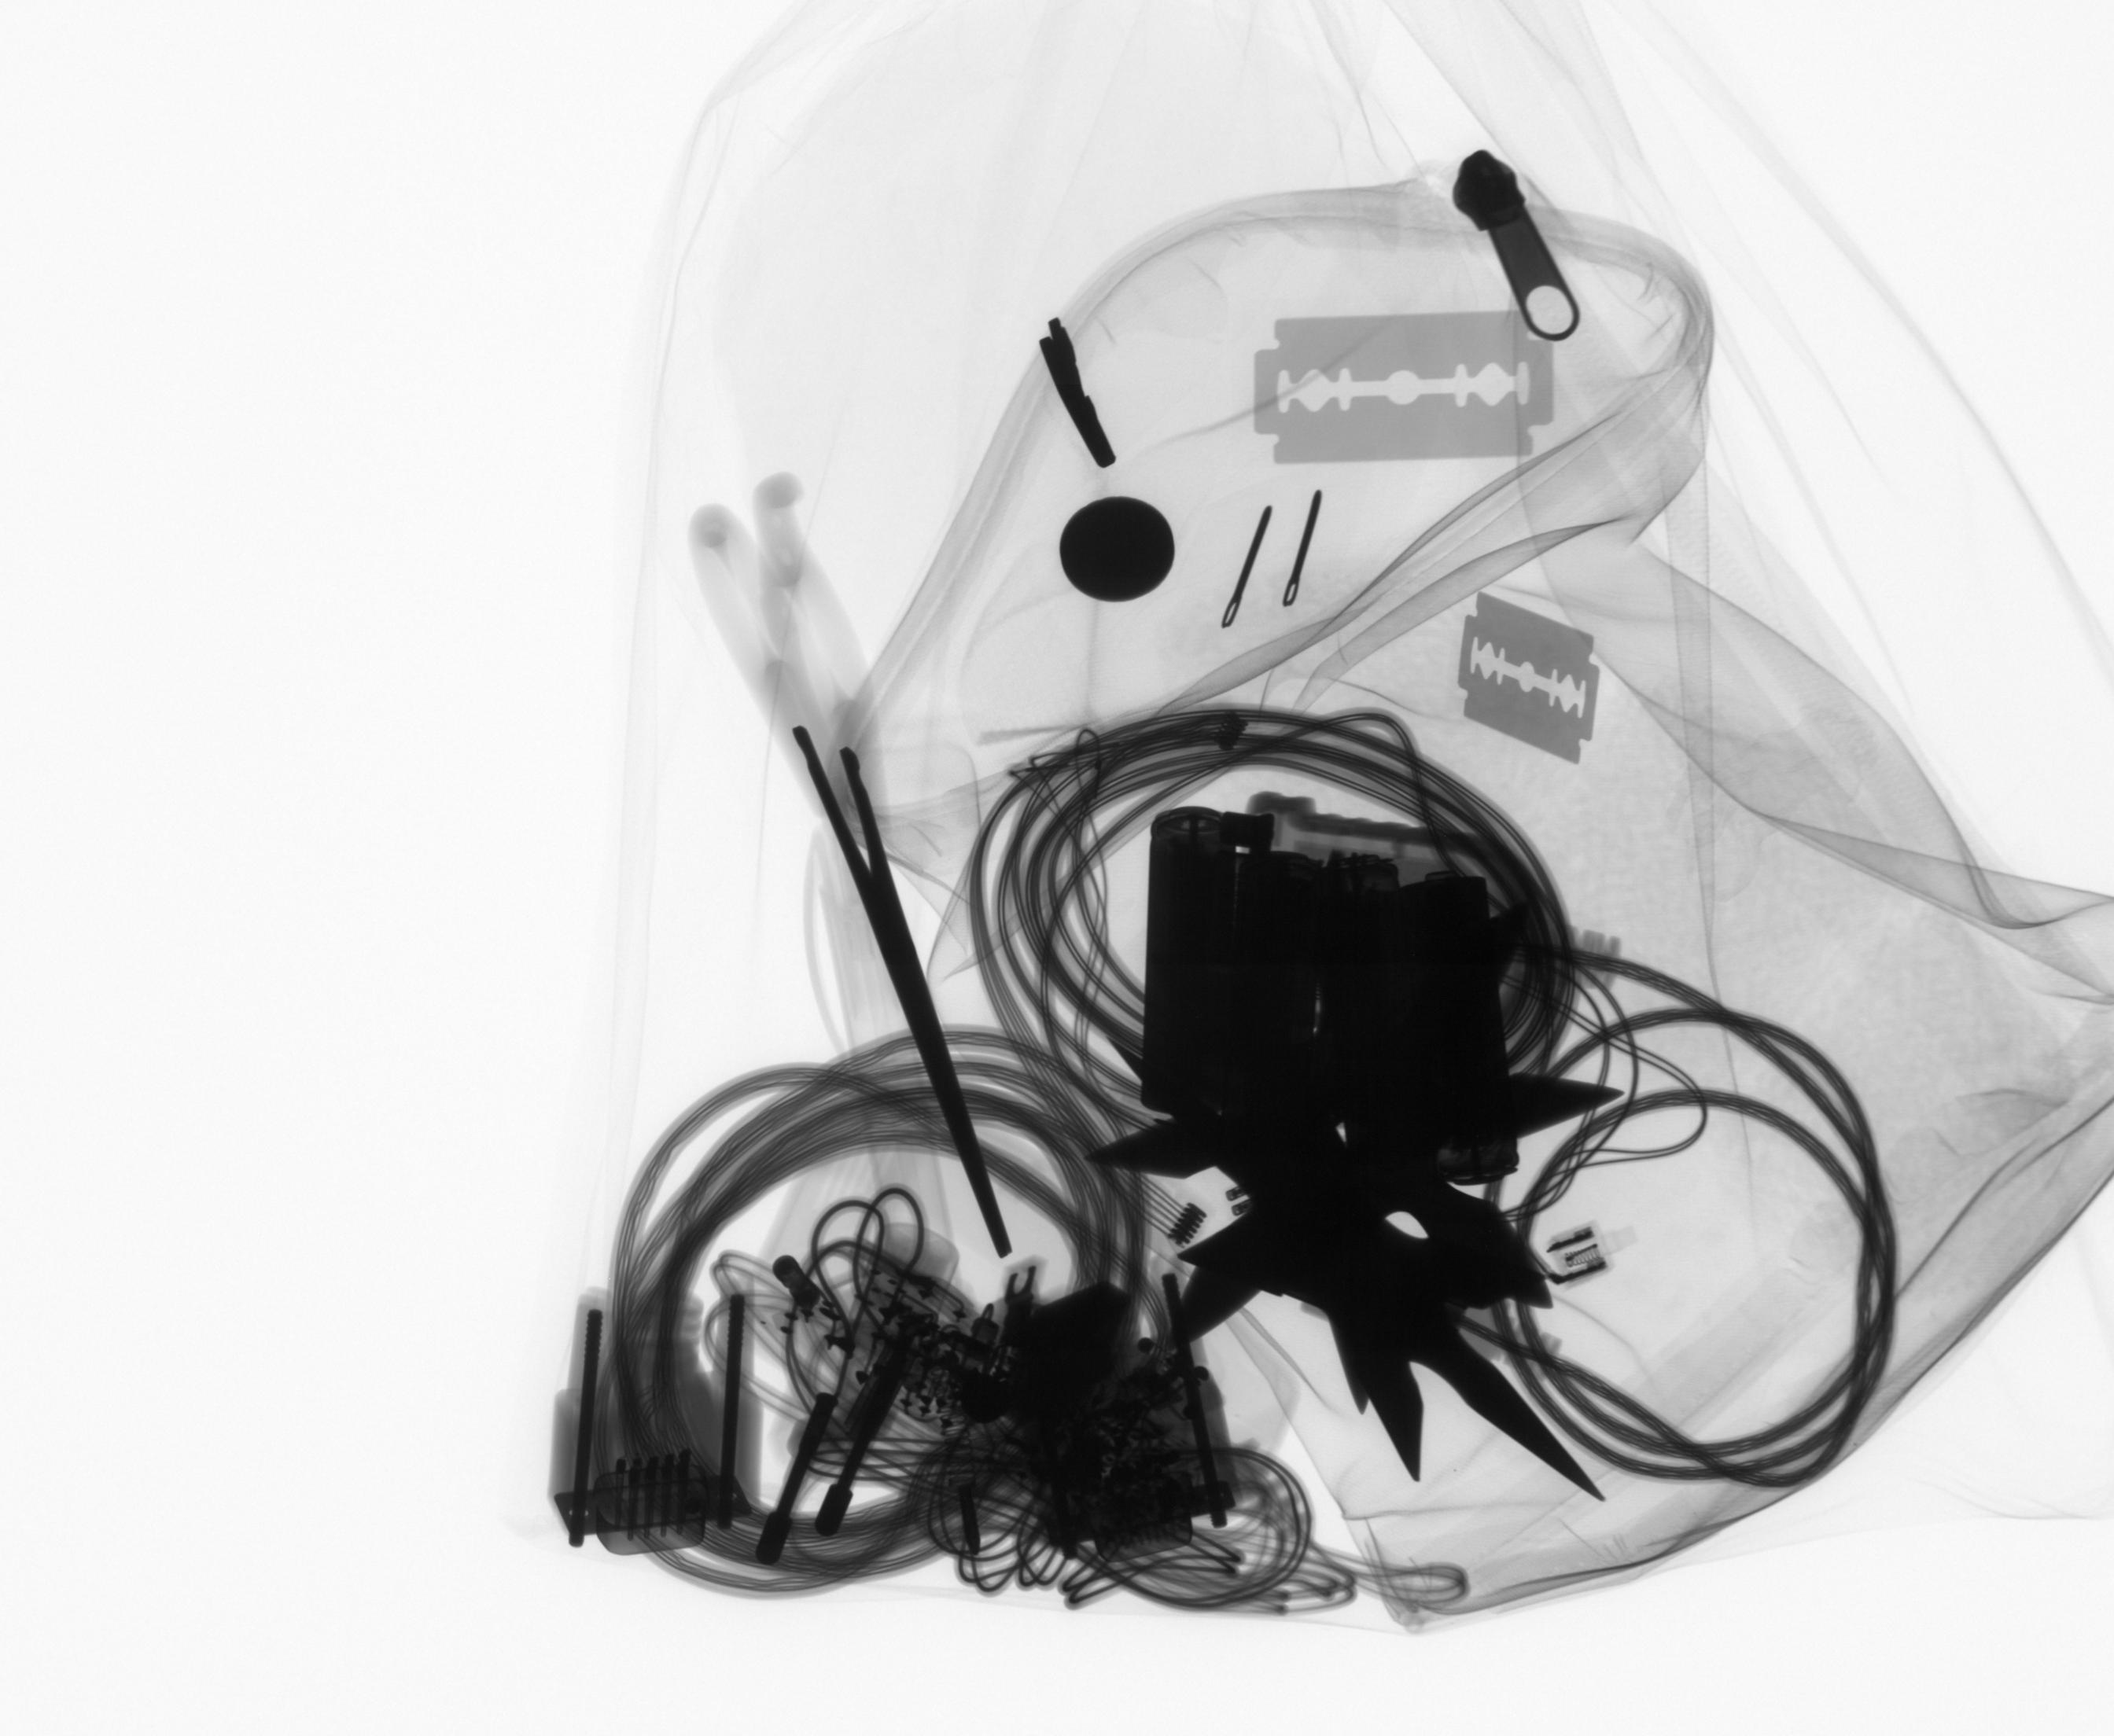RazorBlade: (1245, 300, 1566, 474), (1450, 588, 1605, 772)
